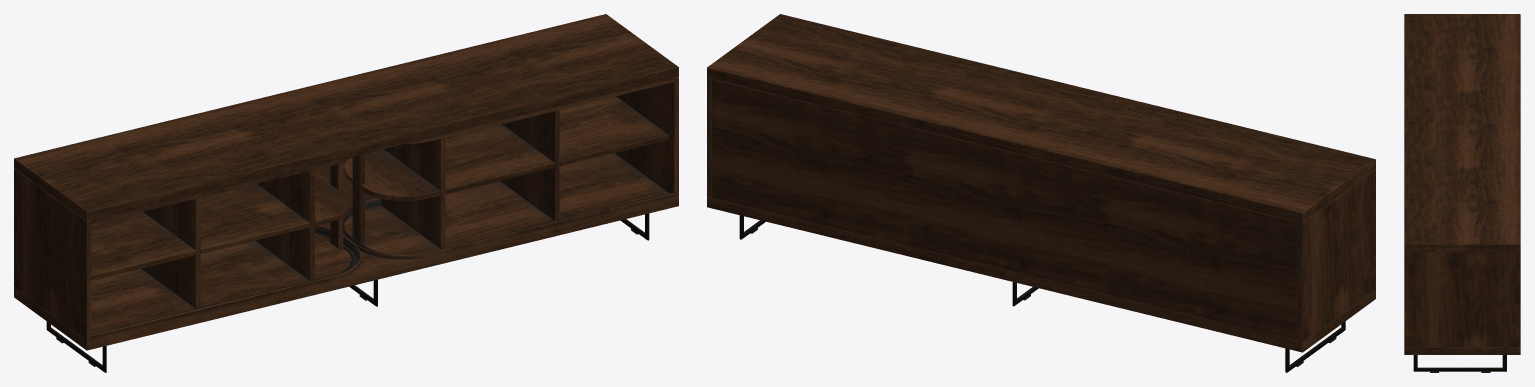
File: modren_wooden_cabinet_01.glb
3 views of the same model, side by side, from view 1: azimuth 30°, elevation 25°; view 2: azimuth 150°, elevation 25°; view 3: azimuth 270°, elevation 25° (orthographic). The views are drawn at different scales.
Visible parts, largest first — view 1: modern_wooden_cabinet_body; view 2: modern_wooden_cabinet_body; view 3: modern_wooden_cabinet_body.
Boxes of the visible parts, x1=… form: modern_wooden_cabinet_body: x1=14, y1=14, x2=678, y2=372; modern_wooden_cabinet_body: x1=707, y1=14, x2=1375, y2=372; modern_wooden_cabinet_body: x1=1404, y1=14, x2=1520, y2=372.
Size of the model in its own units: 2.44 by 0.6801 by 0.52.
Materials: 1 (1 with a texture image).
